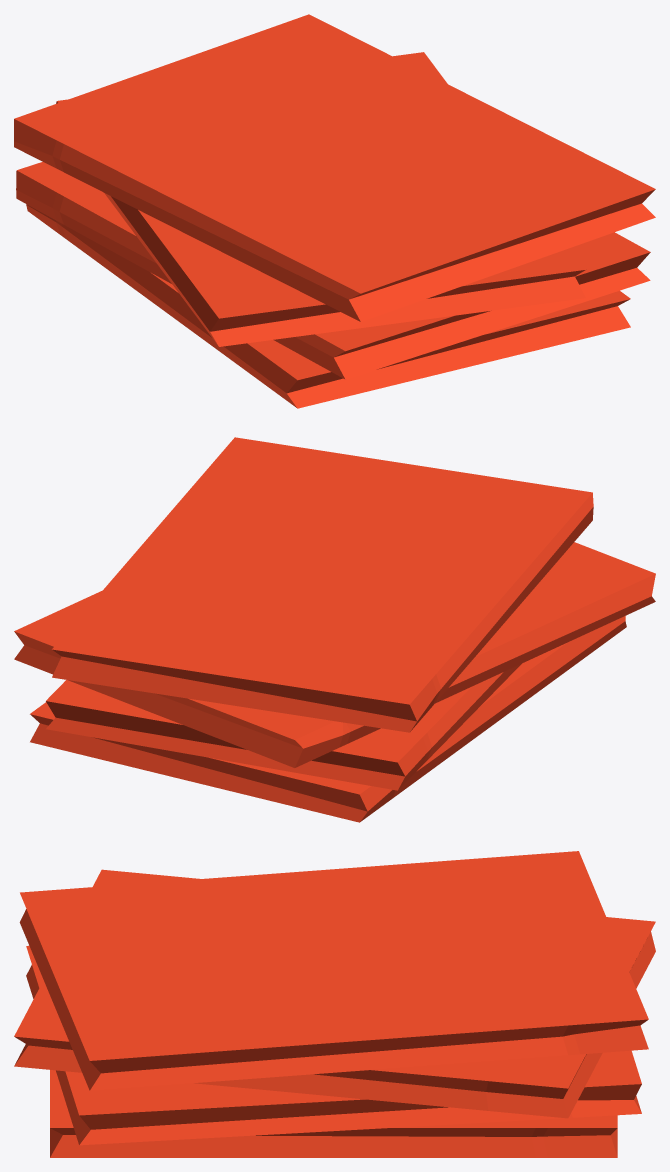
Rendered from SM_Newspaper_B_Pile_City.fbx.
3 views of the same model, one above another, from view 1: azimuth 30°, elevation 25°; view 2: azimuth 150°, elevation 25°; view 3: azimuth 270°, elevation 25° (orthographic). The views are drawn at different scales.
Parts seen in each view (by area): view 1: SM_Newspaper_B_Pile_City; view 2: SM_Newspaper_B_Pile_City; view 3: SM_Newspaper_B_Pile_City.
Part boxes in pixels (bbox=[...]): SM_Newspaper_B_Pile_City: bbox=[14, 14, 655, 408]; SM_Newspaper_B_Pile_City: bbox=[14, 437, 655, 822]; SM_Newspaper_B_Pile_City: bbox=[14, 851, 655, 1157].
Size of the model in its own units: 0.3585 by 0.0897 by 0.4373.
